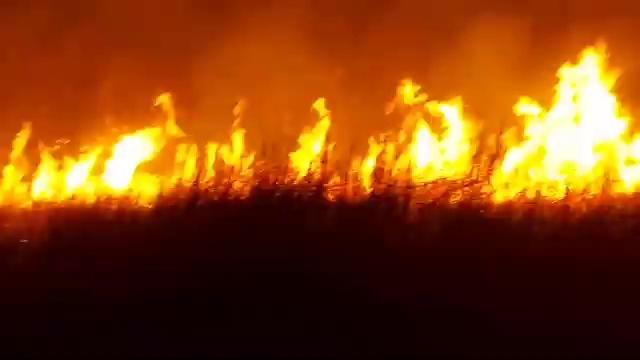fire: (558, 81, 611, 171), (417, 105, 465, 172), (27, 158, 89, 196), (114, 137, 154, 185)
